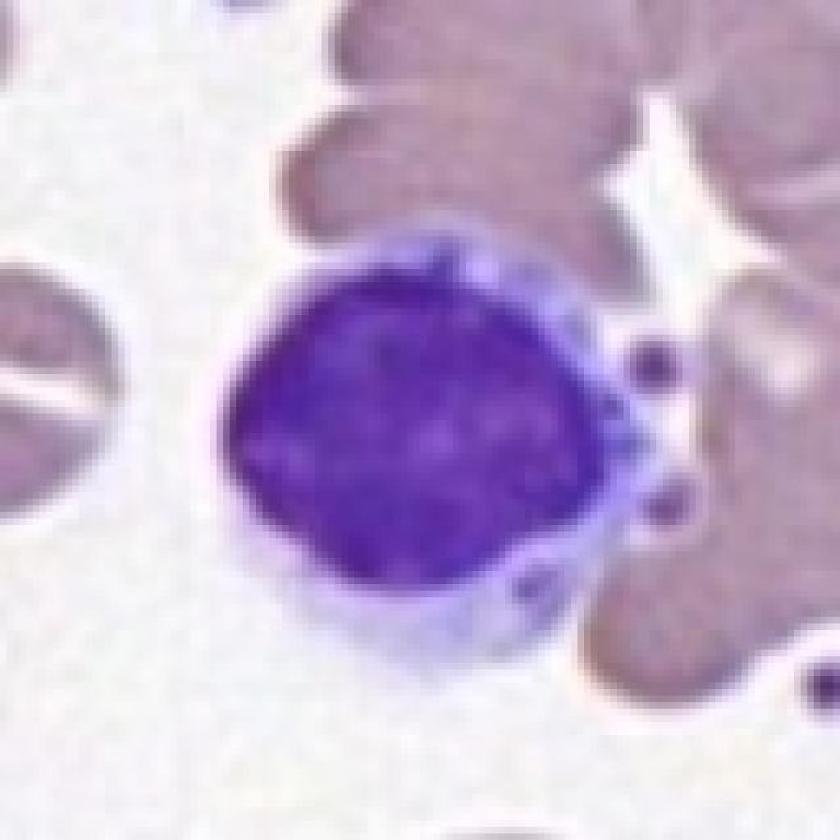lymphocyte: (201, 205, 709, 696)
